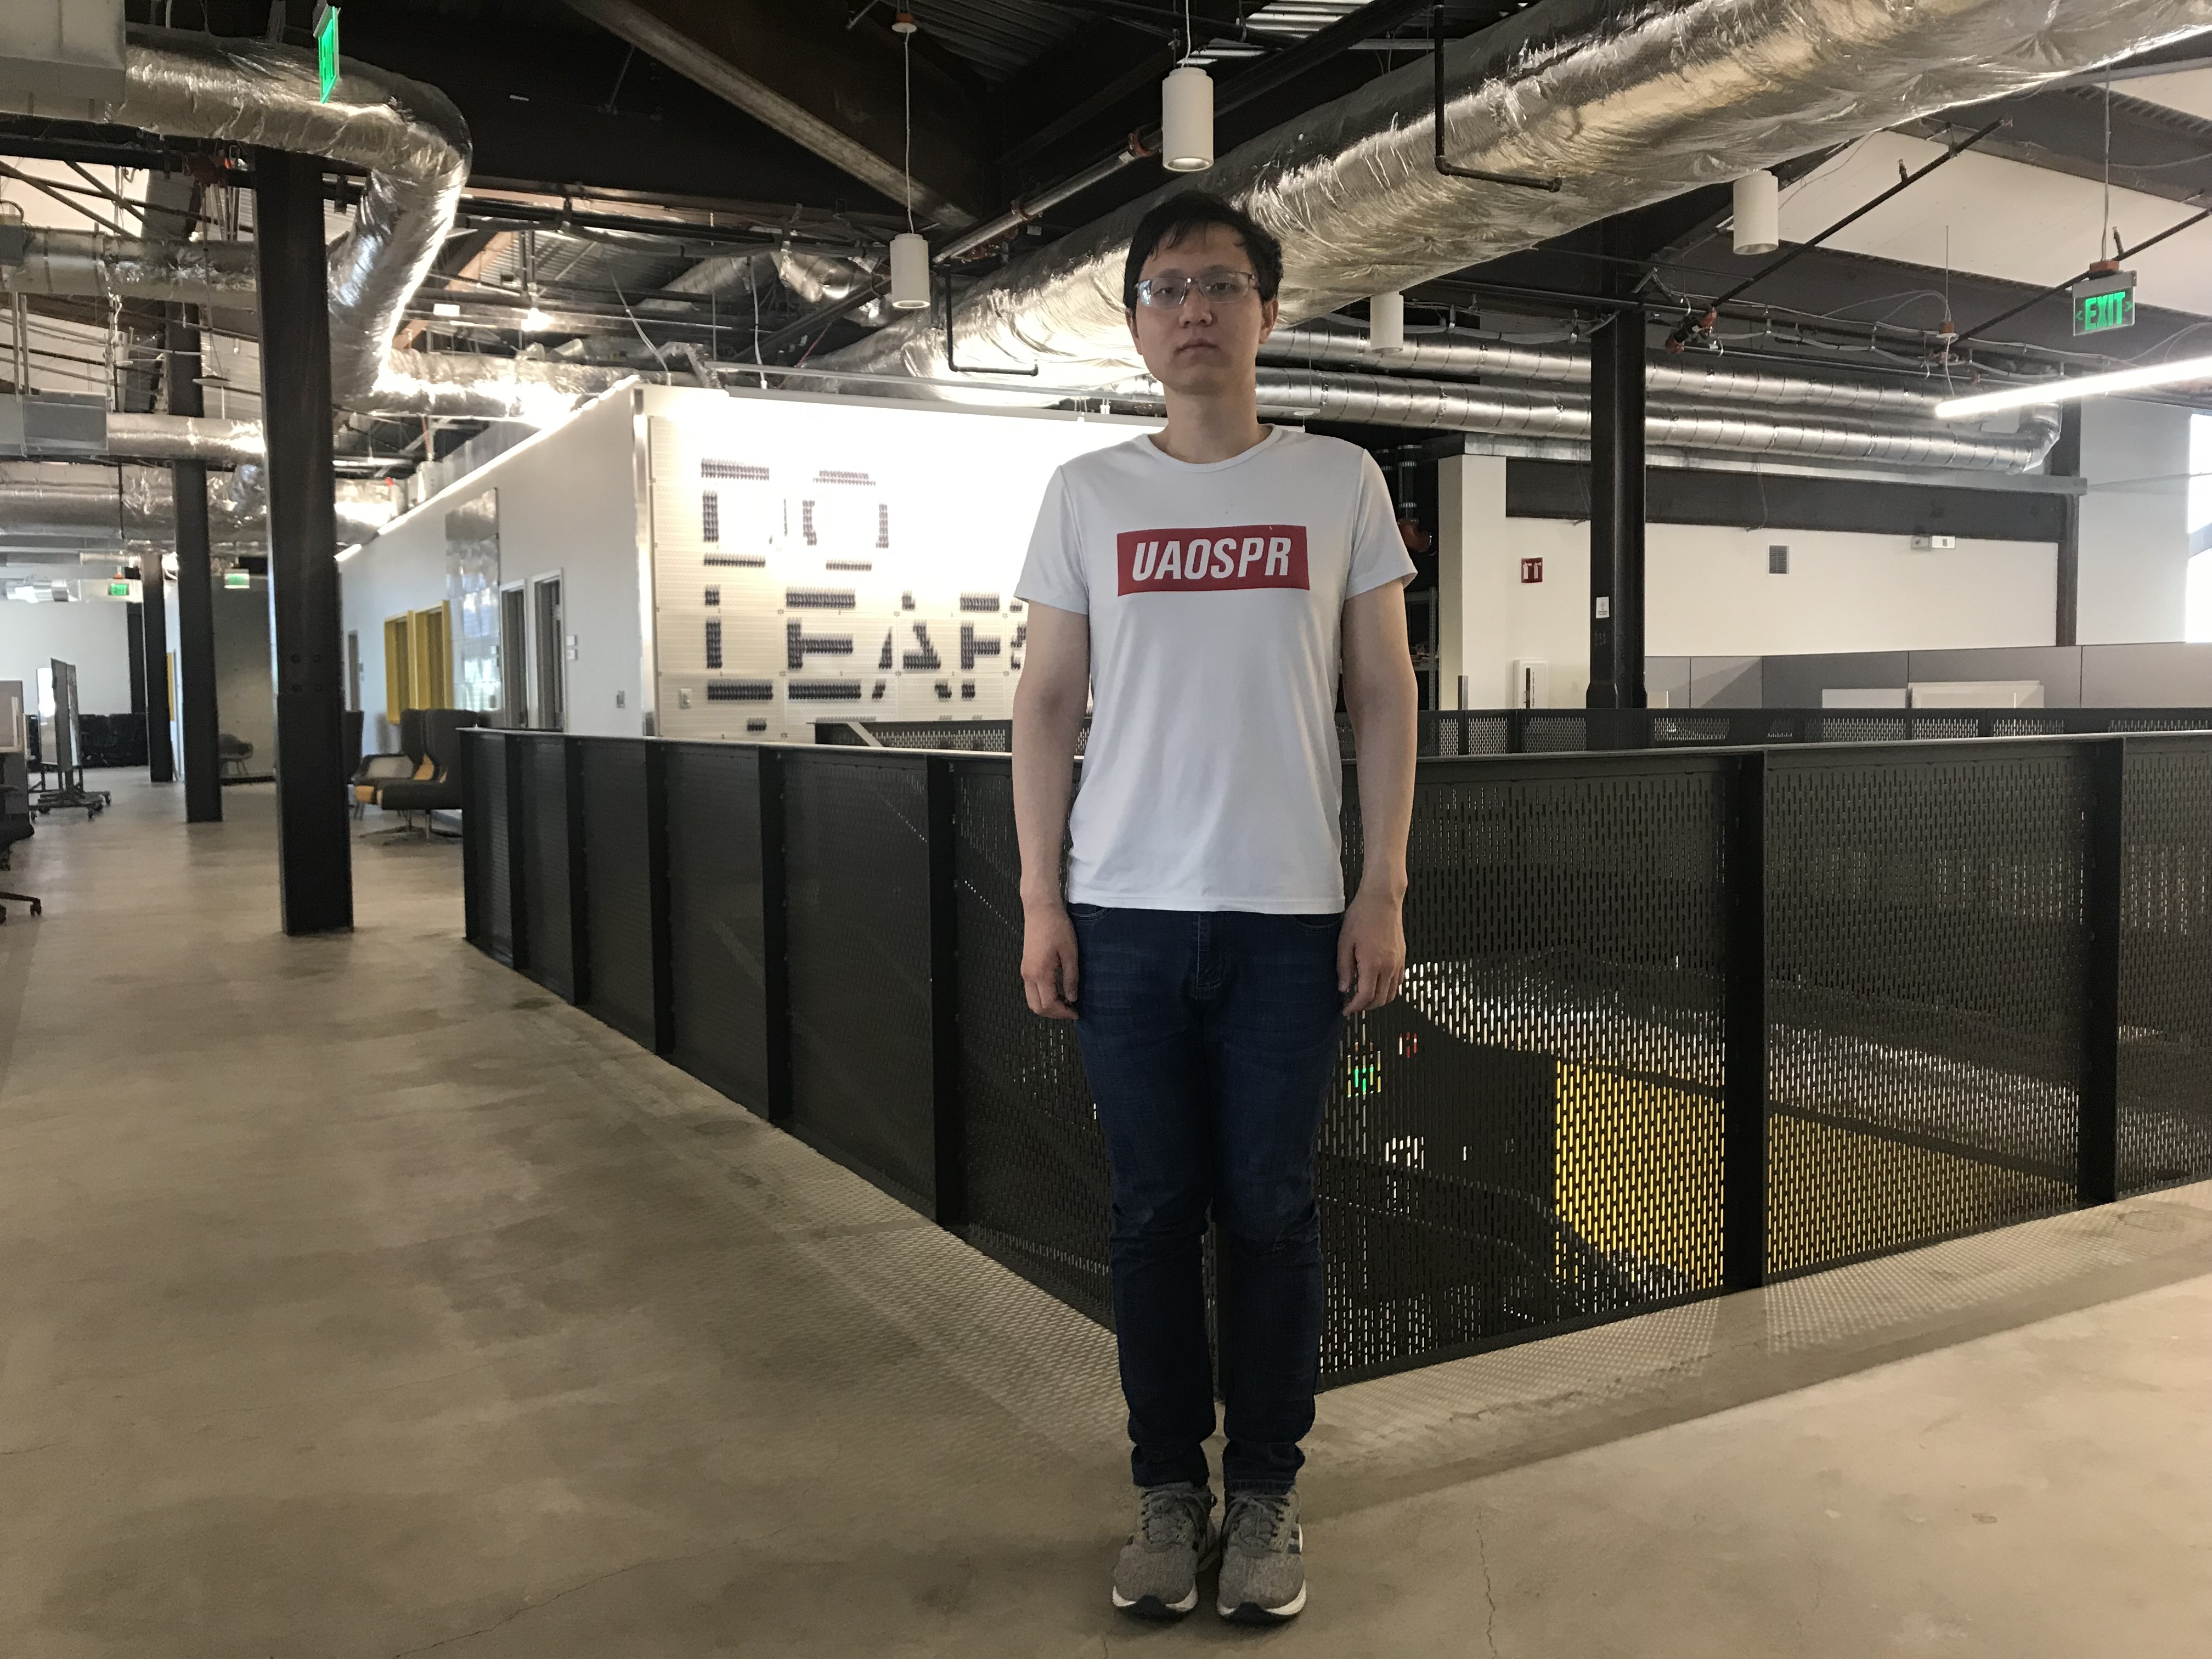attack_zone: (1116, 481, 1312, 850), (2029, 58, 2040, 68)
